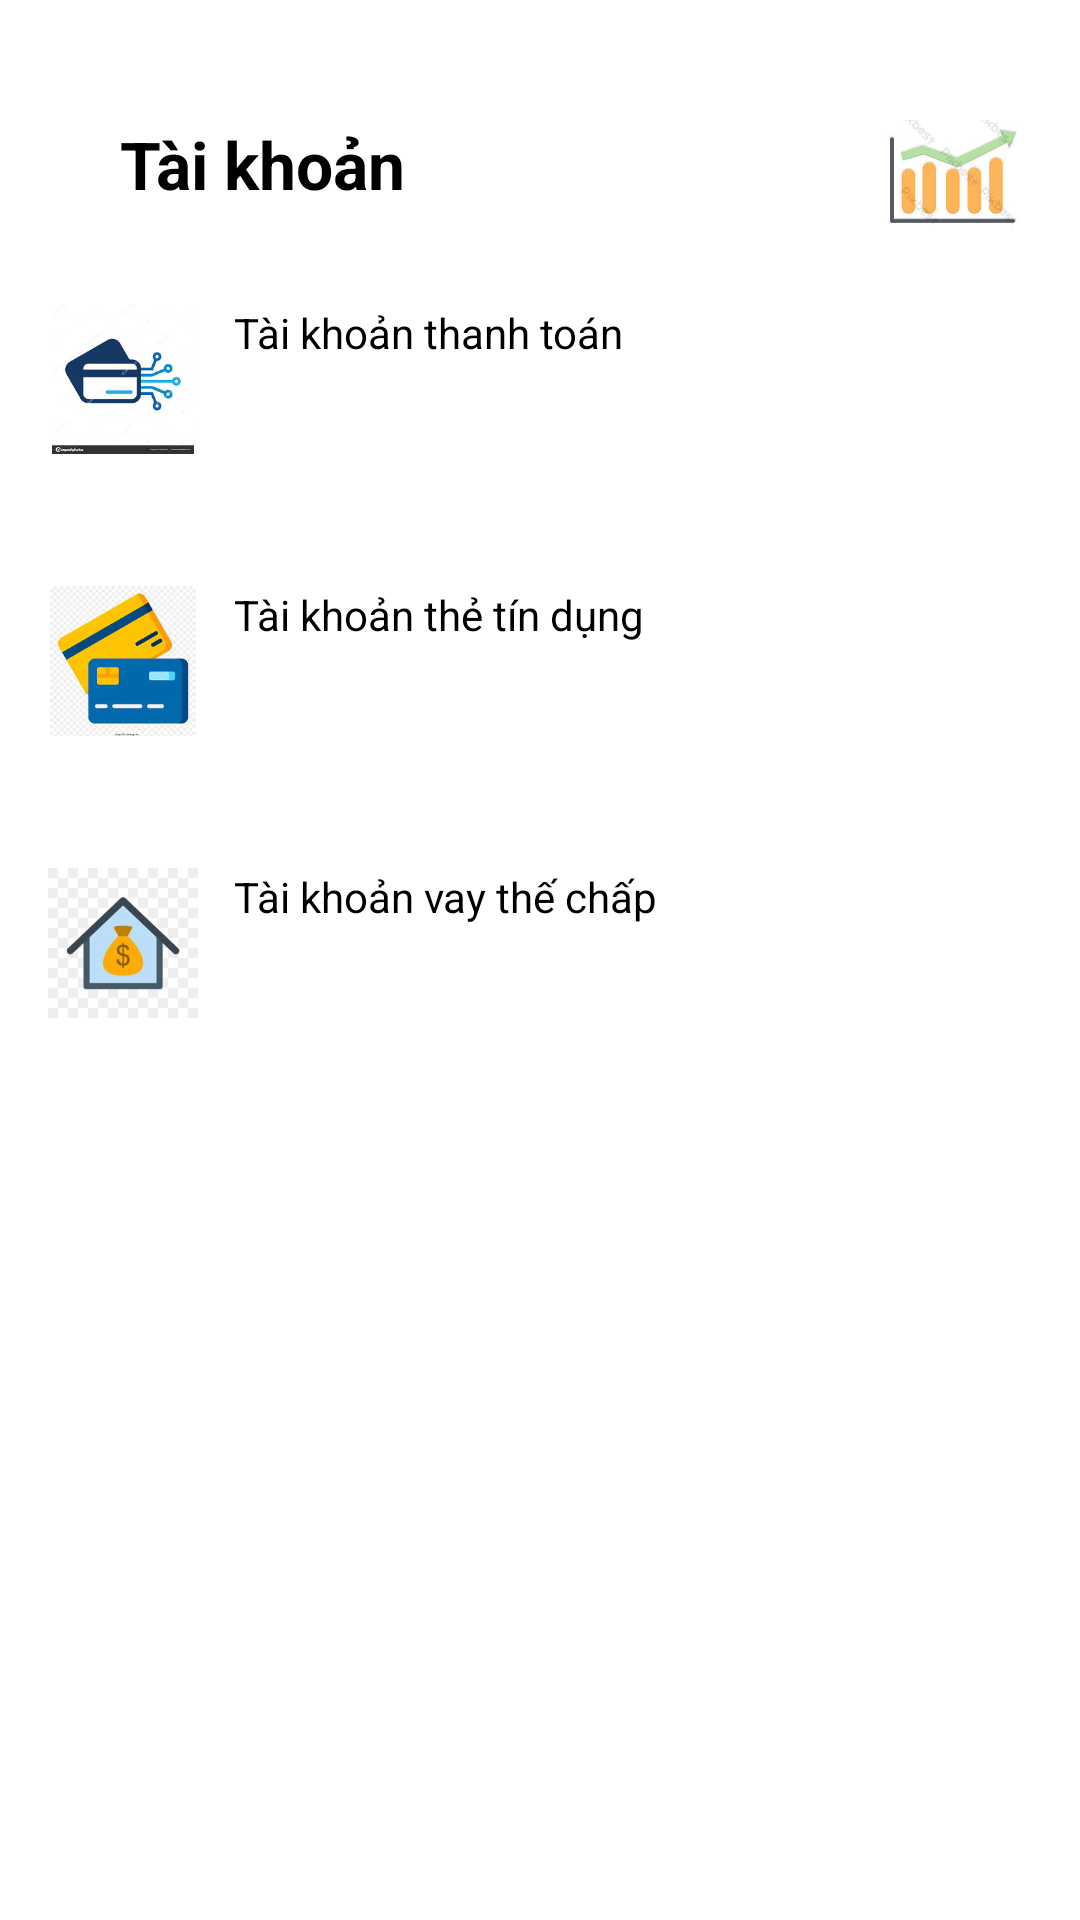

Locate icon controls on the screen. Image size 1080w x 1920h, boxes as (left=x1, top=y1, right=x2, bottom=y2).
credit card: (left=56, top=591, right=191, bottom=736)
mortgage: (left=65, top=897, right=181, bottom=990)
payment: (left=52, top=338, right=194, bottom=454)
statistical: (left=890, top=120, right=1017, bottom=224)
